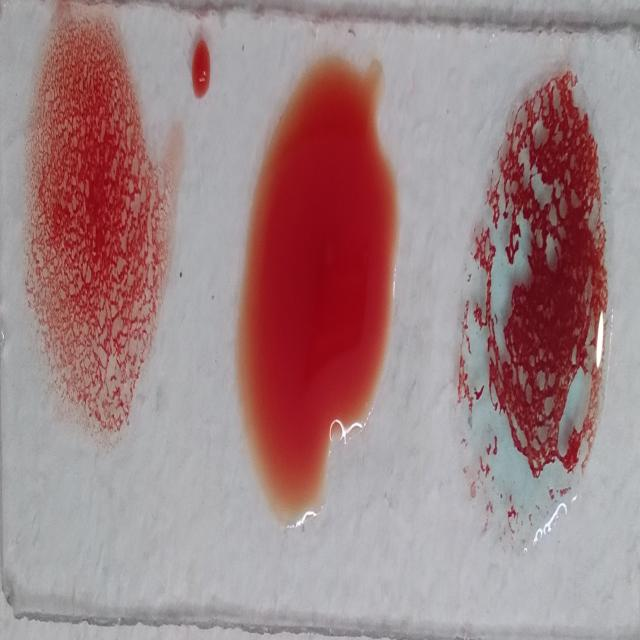A: (446, 71, 612, 561)
D: (18, 8, 160, 444)
